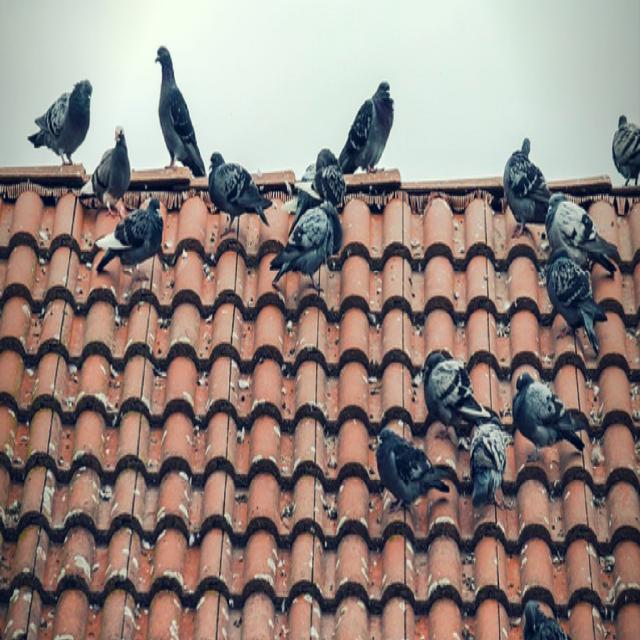bird: (154, 45, 207, 179), (269, 199, 343, 293), (422, 349, 491, 446), (545, 250, 608, 356), (375, 428, 449, 516), (545, 193, 621, 278), (94, 197, 164, 283), (27, 78, 93, 169), (337, 80, 395, 176), (207, 151, 273, 231), (79, 125, 132, 221), (502, 137, 552, 230), (611, 113, 640, 188), (169, 237, 214, 285), (312, 149, 346, 211), (176, 193, 209, 254)
